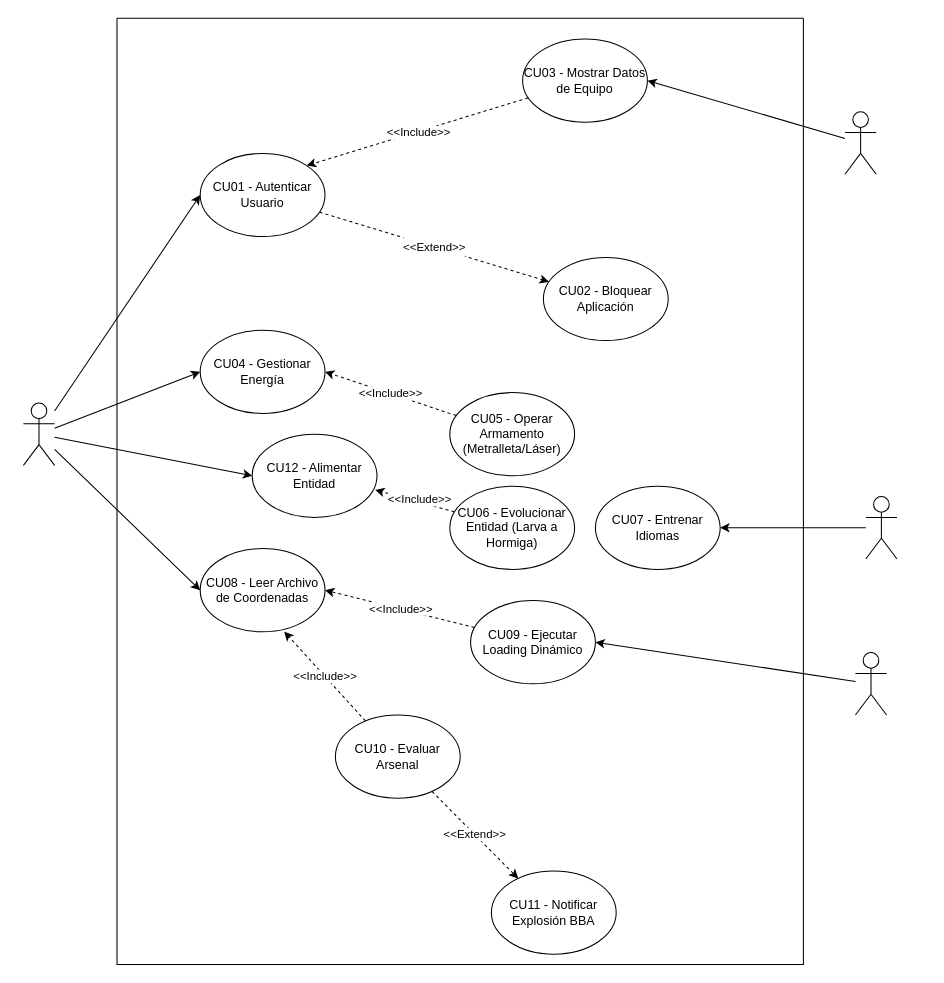
The diagram is 944 pixels wide and 983 high, and some of its shapes have lost their labels. Here are the shapes that lost their labels. From the top down, the box of each, then its label:
(844, 111, 876, 174): Sistema de Archivos
(22, 402, 55, 465): Usuario
(865, 496, 897, 559): Experto Bilingue
(854, 652, 887, 715): Loading de carga
